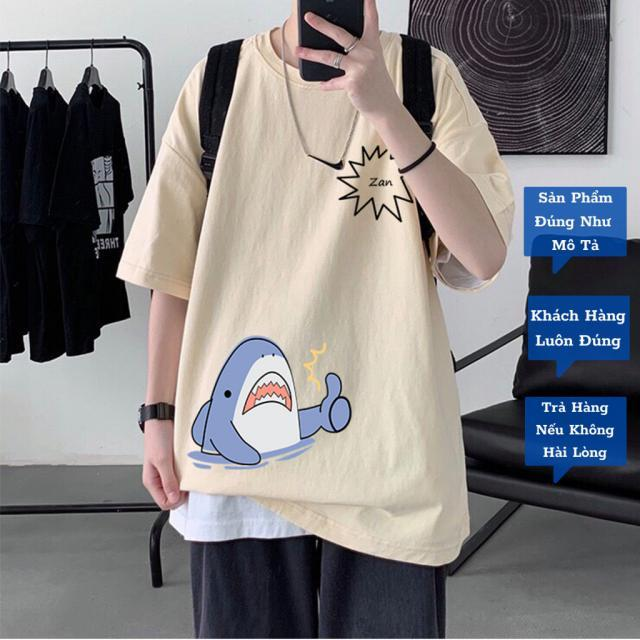shirt: (113, 23, 513, 566)
